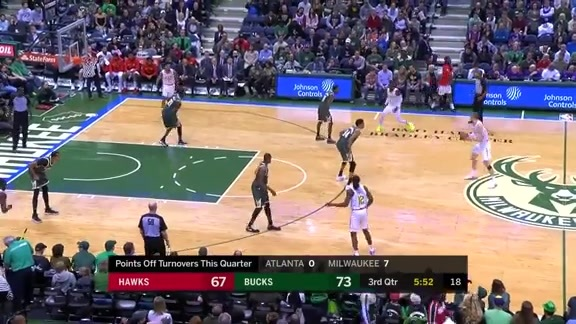basketball: (456, 130, 469, 142)
basketball player: (328, 173, 378, 257), (244, 149, 284, 235), (24, 147, 67, 227), (457, 114, 503, 188), (374, 83, 417, 141), (157, 89, 194, 152), (336, 117, 368, 176), (317, 84, 337, 146), (151, 61, 182, 99)
